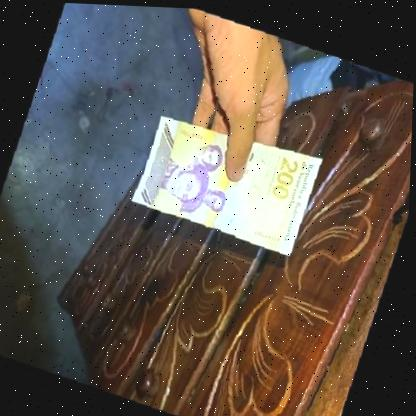two_hundred-front-vef: (127, 109, 327, 258)
